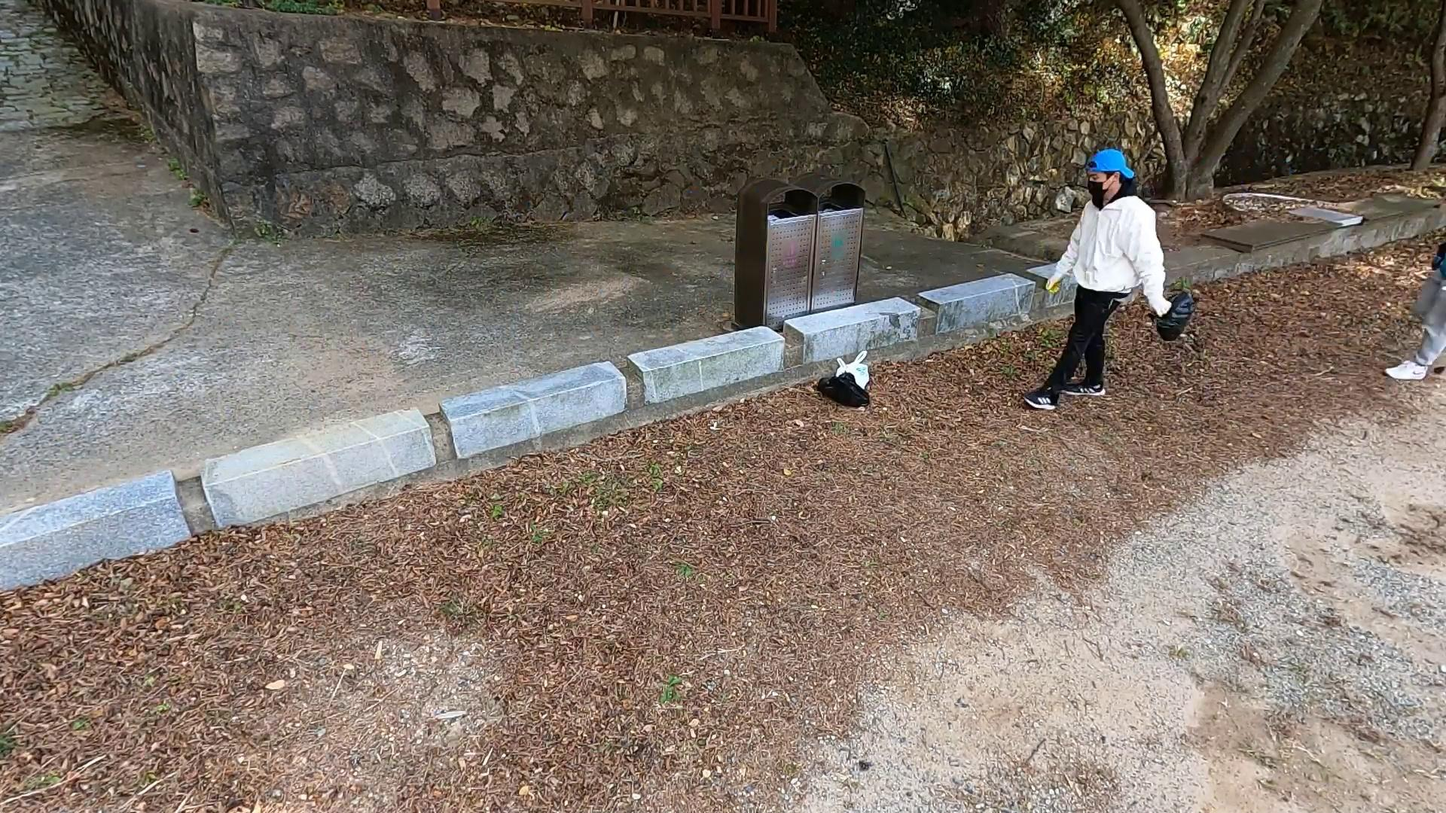person: (1026, 148, 1176, 414)
trash: (1149, 292, 1204, 341), (815, 370, 873, 409), (838, 347, 875, 391)
